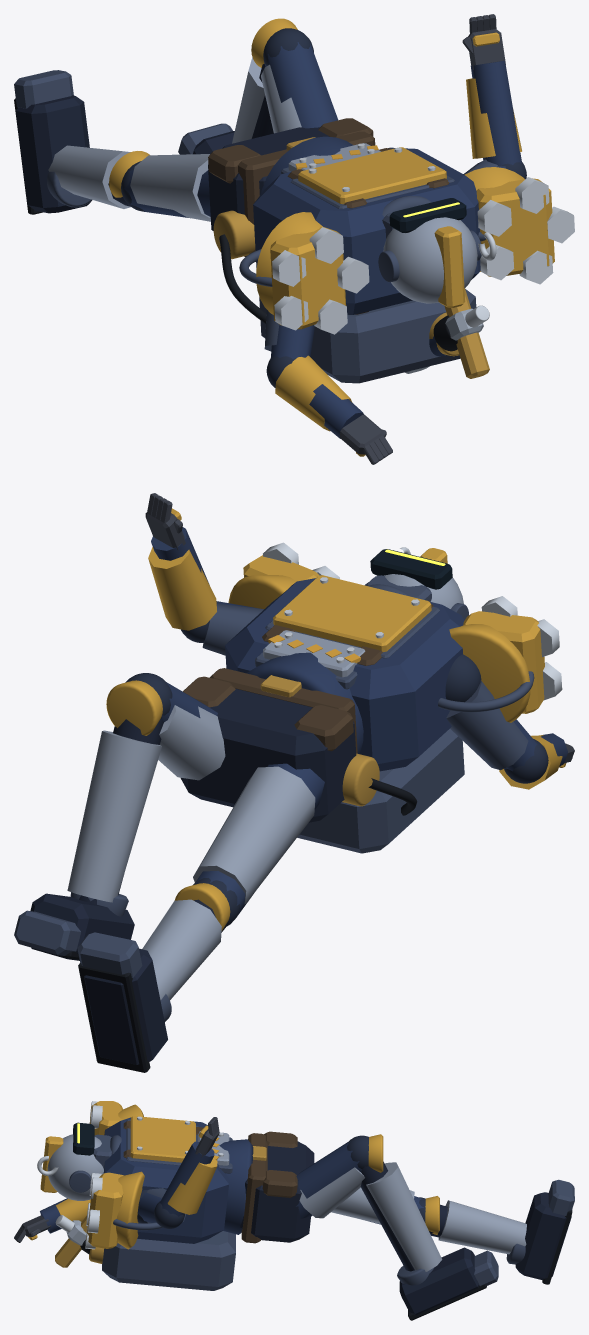
File: hero_forge_downed.glb
3 renders of one model, top to bottom at view 1: azimuth 30°, elevation 25°; view 2: azimuth 150°, elevation 25°; view 3: azimuth 270°, elevation 25°, orthographic. The views are drawn at different scales.
Parts seen in each view (by area): view 1: hero_forge_downed_chest, hero_forge_downed_pack_body, hero_forge_downed_boot_l, hero_forge_downed_chest_plate_face, hero_forge_downed_helmet, hero_forge_downed_pauldron_bolts-1, hero_forge_downed_pauldron_bolts1, hero_forge_downed_thigh_plate_l, hero_forge_downed_pauldron_heavy-1, hero_forge_downed_thigh_r, hero_forge_downed_pauldron_heavy1, hero_forge_downed_forearm_r (+31 smaller); view 2: hero_forge_downed_chest, hero_forge_downed_pelvis, hero_forge_downed_greave_r, hero_forge_downed_thigh_plate_l, hero_forge_downed_pack_body, hero_forge_downed_chest_plate_face, hero_forge_downed_boot_l, hero_forge_downed_greave_l, hero_forge_downed_pauldron-1, hero_forge_downed_thigh_plate_r, hero_forge_downed_bracer_r, hero_forge_downed_bicep_plate_l (+28 smaller); view 3: hero_forge_downed_pack_body, hero_forge_downed_chest, hero_forge_downed_pelvis, hero_forge_downed_greave_r, hero_forge_downed_greave_l, hero_forge_downed_boot_r, hero_forge_downed_boot_l, hero_forge_downed_chest_plate_face, hero_forge_downed_abdomen, hero_forge_downed_helmet, hero_forge_downed_pauldron_heavy1, hero_forge_downed_thigh_r (+34 smaller).
Boxes of the visible parts, box(x1,y1,x2,y2) form: hero_forge_downed_chest: box(253, 147, 480, 314); hero_forge_downed_pack_body: box(259, 289, 476, 383); hero_forge_downed_boot_l: box(15, 95, 91, 213); hero_forge_downed_chest_plate_face: box(298, 147, 446, 204); hero_forge_downed_helmet: box(383, 217, 477, 303); hero_forge_downed_pauldron_bolts-1: box(272, 227, 369, 334); hero_forge_downed_pauldron_bolts1: box(477, 177, 574, 284); hero_forge_downed_thigh_plate_l: box(130, 154, 210, 221); hero_forge_downed_pauldron_heavy-1: box(270, 226, 346, 329); hero_forge_downed_thigh_r: box(264, 42, 338, 128); hero_forge_downed_pauldron_heavy1: box(476, 178, 554, 276); hero_forge_downed_forearm_r: box(470, 60, 521, 166); hero_forge_downed_chest: box(225, 578, 464, 771); hero_forge_downed_pelvis: box(180, 688, 356, 822); hero_forge_downed_greave_r: box(67, 730, 161, 902); hero_forge_downed_thigh_plate_l: box(193, 766, 315, 904); hero_forge_downed_pack_body: box(297, 729, 464, 853); hero_forge_downed_chest_plate_face: box(273, 575, 431, 651); hero_forge_downed_boot_l: box(84, 948, 167, 1064); hero_forge_downed_greave_l: box(142, 899, 221, 1000); hero_forge_downed_pauldron-1: box(449, 624, 530, 722); hero_forge_downed_thigh_plate_r: box(158, 705, 225, 780); hero_forge_downed_bracer_r: box(148, 547, 216, 630); hero_forge_downed_bicep_plate_l: box(446, 680, 528, 770); hero_forge_downed_pack_body: box(102, 1231, 235, 1290); hero_forge_downed_chest: box(103, 1117, 228, 1243); hero_forge_downed_pelvis: box(240, 1141, 314, 1242); hero_forge_downed_greave_r: box(366, 1162, 442, 1271); hero_forge_downed_greave_l: box(438, 1200, 526, 1254); hero_forge_downed_boot_r: box(399, 1247, 478, 1314); hero_forge_downed_boot_l: box(515, 1192, 571, 1279); hero_forge_downed_chest_plate_face: box(130, 1116, 195, 1162); hero_forge_downed_abdomen: box(219, 1139, 253, 1234); hero_forge_downed_helmet: box(47, 1134, 103, 1200); hero_forge_downed_pauldron_heavy1: box(86, 1172, 123, 1248); hero_forge_downed_thigh_r: box(296, 1142, 361, 1218).
Bounding box in the file's own units: 0.8907 × 0.8845 × 1.98.
